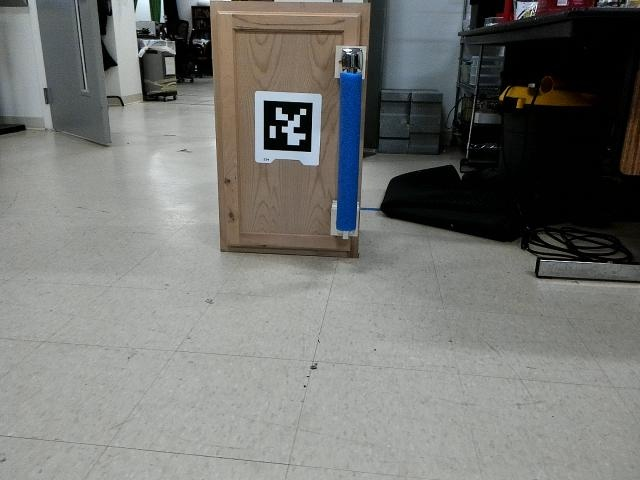noodle_handle: (329, 65, 363, 238)
